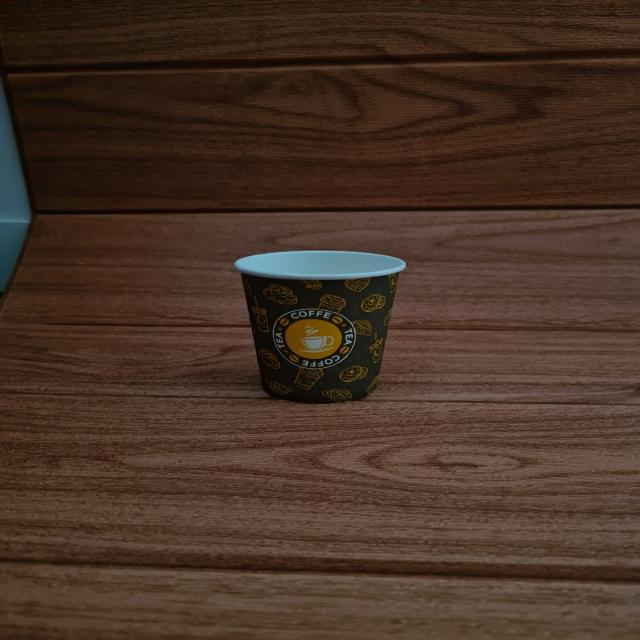cups: (235, 250, 406, 400)
